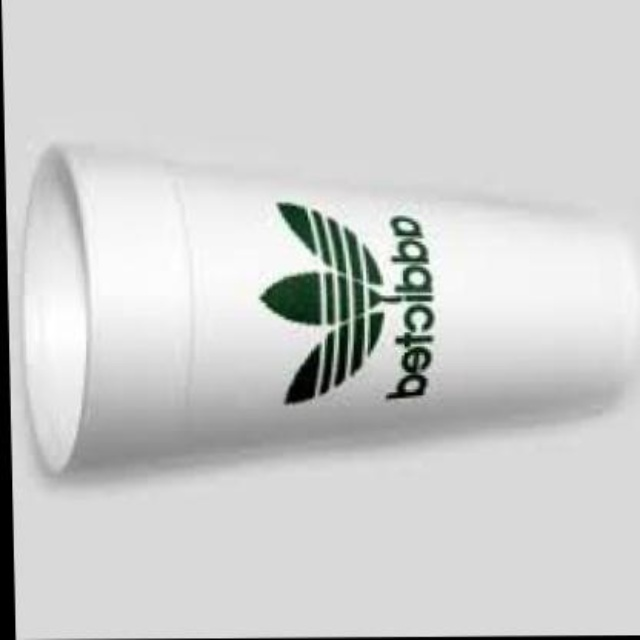trash: (22, 148, 635, 472)
